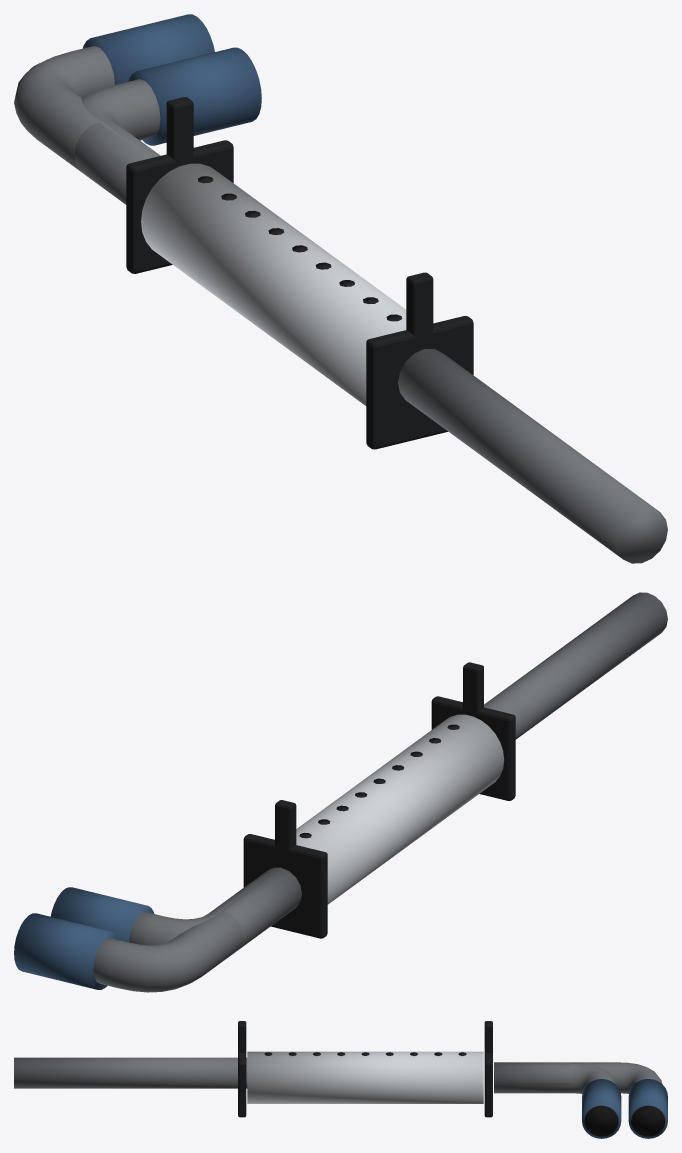
Rendered from exhaust_hks_trailmaster.glb.
The picture shows the model from 3 angles, top to bottom: view 1: azimuth 30°, elevation 25°; view 2: azimuth 150°, elevation 25°; view 3: azimuth 270°, elevation 25°; orthographic projection. The views are drawn at different scales.
Parts seen in each view (by area): view 1: canister, run, strap125.0, tail1, tip0.005, tail0.005, tip1.001, strap-345.0, hanger125.0, hanger-345.0; view 2: canister, run, tail1, tip1.001, tail0.005, strap-345.0, tip0.005, strap125.0, hanger-345.0, hanger125.0; view 3: canister, run, tail0.005, tail1, tip1.001, tip0.005, tip1Mouth.001, tip0Mouth.005, strap-345.0, strap125.0, hanger-345.0, hanger125.0.
Boxes of the visible parts, x1=… form: canister: x1=141, y1=163, x2=406, y2=405; run: x1=398, y1=348, x2=667, y2=563; strap125.0: x1=366, y1=316, x2=473, y2=449; tail1: x1=14, y1=46, x2=151, y2=192; tip0.005: x1=128, y1=47, x2=261, y2=145; tail0.005: x1=74, y1=79, x2=160, y2=204; tip1.001: x1=83, y1=14, x2=214, y2=84; strap-345.0: x1=126, y1=140, x2=233, y2=273; hanger125.0: x1=406, y1=272, x2=433, y2=337; hanger-345.0: x1=166, y1=97, x2=193, y2=161; canister: x1=296, y1=714, x2=504, y2=904; run: x1=484, y1=592, x2=667, y2=739; tail1: x1=93, y1=867, x2=301, y2=992; tip1.001: x1=14, y1=913, x2=118, y2=989; tail0.005: x1=129, y1=867, x2=301, y2=949; strap-345.0: x1=243, y1=834, x2=327, y2=938; tip0.005: x1=50, y1=887, x2=154, y2=942; strap125.0: x1=431, y1=696, x2=515, y2=800; hanger-345.0: x1=275, y1=800, x2=296, y2=854; hanger125.0: x1=463, y1=662, x2=483, y2=715; canister: x1=247, y1=1051, x2=483, y2=1103; run: x1=14, y1=1057, x2=247, y2=1088; tail0.005: x1=494, y1=1062, x2=615, y2=1093; tail1: x1=494, y1=1062, x2=662, y2=1093; tip1.001: x1=628, y1=1079, x2=667, y2=1138; tip0.005: x1=582, y1=1079, x2=621, y2=1138; tip1Mouth.001: x1=631, y1=1105, x2=665, y2=1136; tip0Mouth.005: x1=584, y1=1105, x2=618, y2=1136; strap-345.0: x1=484, y1=1053, x2=492, y2=1117; strap125.0: x1=238, y1=1053, x2=246, y2=1117; hanger-345.0: x1=484, y1=1021, x2=492, y2=1053; hanger125.0: x1=238, y1=1021, x2=246, y2=1053.
Bounding box in the file's own units: 0.254 × 0.173 × 1.25.
